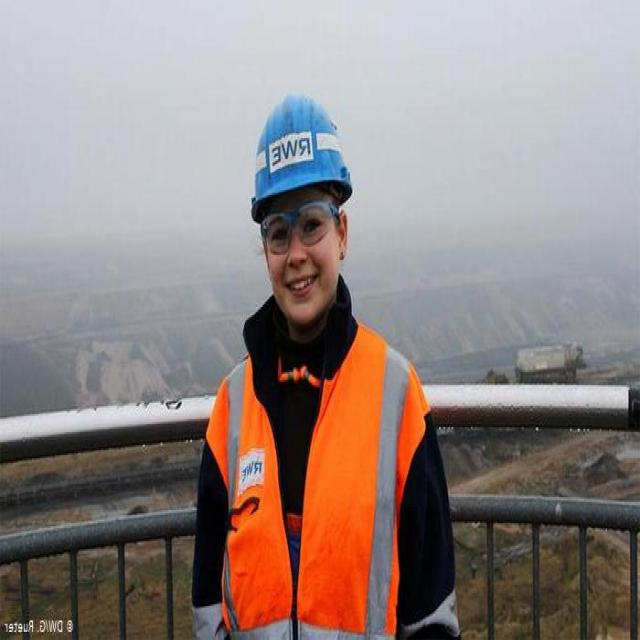Reflective-Jacket: (204, 324, 424, 638)
Safety-Helmet: (244, 82, 357, 220)
